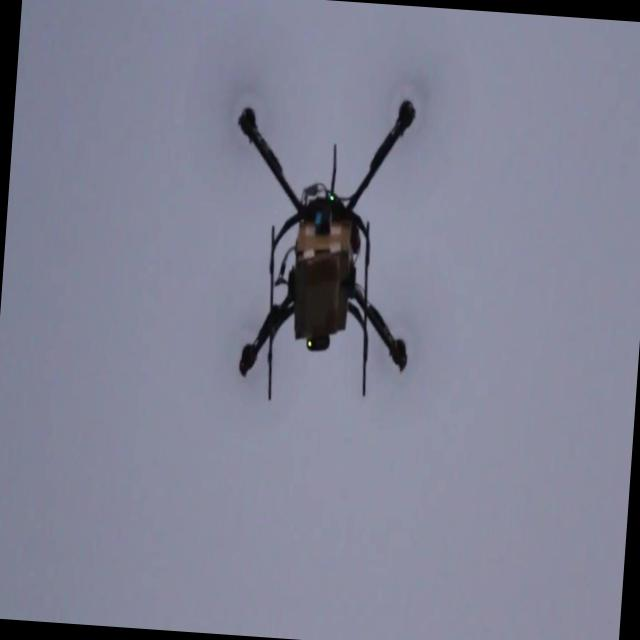drone: (216, 87, 426, 414)
